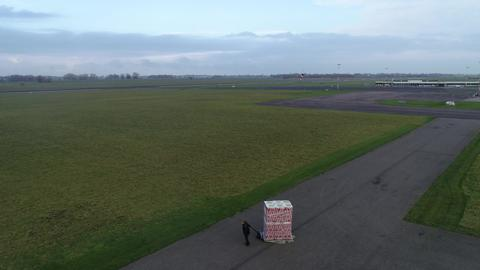RockwoolPallet: (263, 199, 294, 238)
